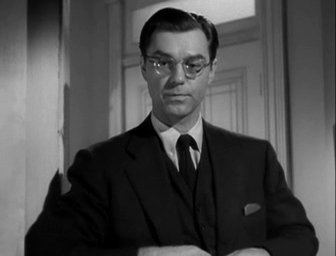face: (147, 37, 209, 117)
mcu: (1, 1, 336, 256)
person: (24, 7, 319, 256)
